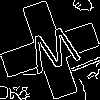W: (25, 25, 85, 83)
